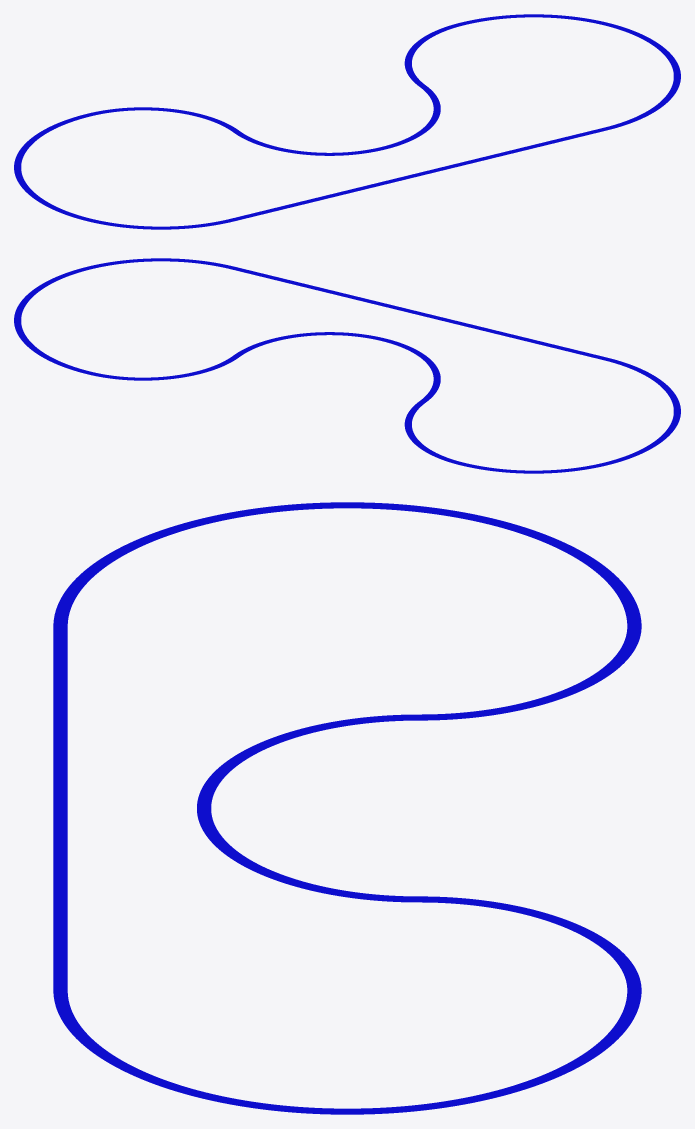
File: race_track.dae
The picture shows the model from 3 angles, top to bottom: view 1: azimuth 30°, elevation 25°; view 2: azimuth 150°, elevation 25°; view 3: azimuth 270°, elevation 25°; orthographic projection. The views are drawn at different scales.
Visible parts, largest first — view 1: Plane; view 2: Plane; view 3: Plane.
Part boxes in pixels (x1,y1,x2,y2): Plane: (14,14,680,229); Plane: (14,258,680,473); Plane: (53,502,641,1114).
Size of the model in its own units: 5.05 by 2.05 by 0.
